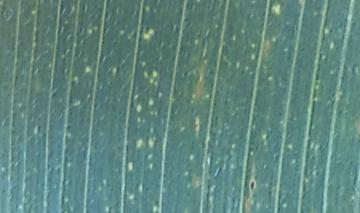tarspot: (244, 174, 262, 196)
